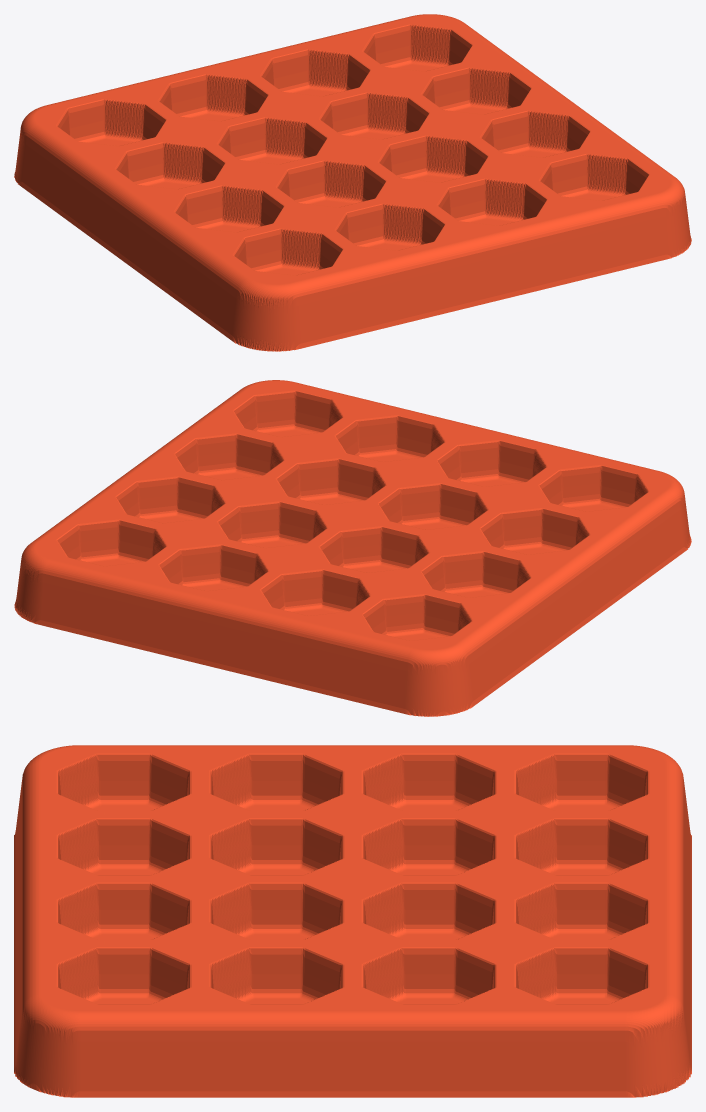
File: mold.glb
3 renders of one model, top to bottom at view 1: azimuth 30°, elevation 25°; view 2: azimuth 150°, elevation 25°; view 3: azimuth 270°, elevation 25°, orthographic. The views are drawn at different scales.
Parts seen in each view (by area): view 1: geometry_0; view 2: geometry_0; view 3: geometry_0.
Boxes of the visible parts, left/top/right/bottom form: geometry_0: left=14, top=14, right=691, bottom=351; geometry_0: left=14, top=380, right=691, bottom=716; geometry_0: left=14, top=745, right=691, bottom=1097.
Size of the model in its own units: 0.0924 by 0.0114 by 0.0924.
